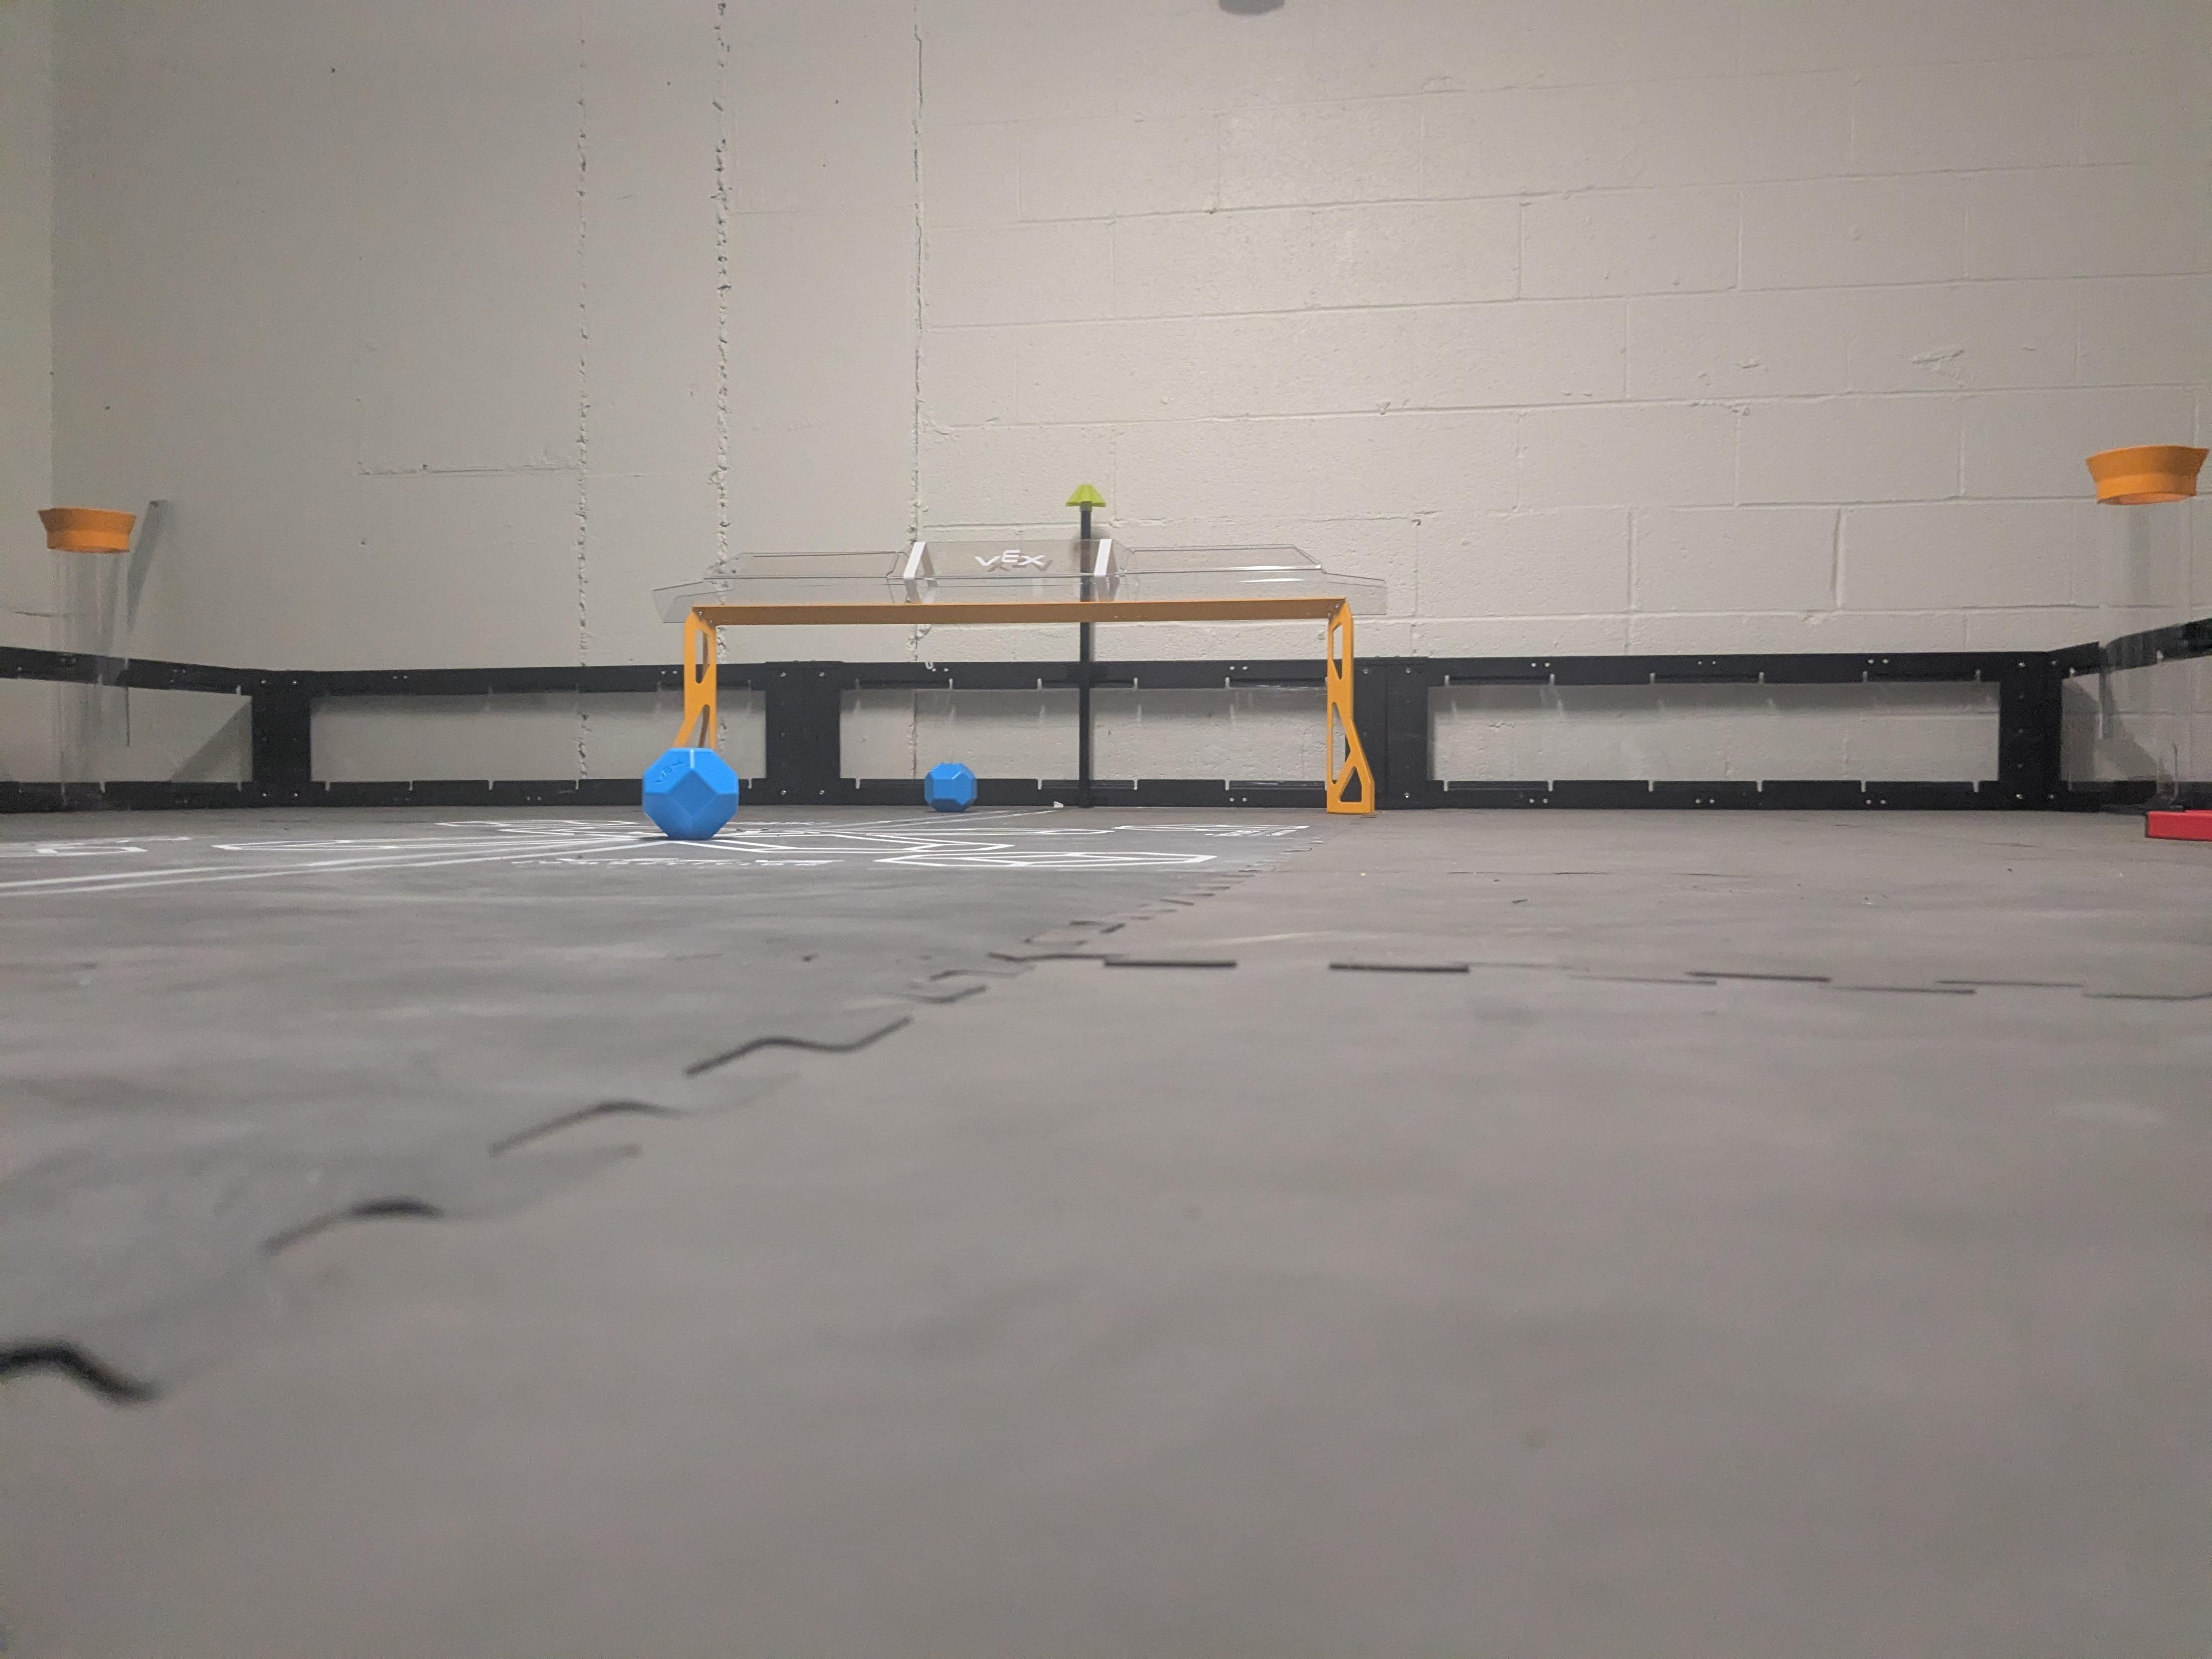Vex-Pieces-BLUE: (643, 749, 740, 836), (923, 762, 977, 812)
